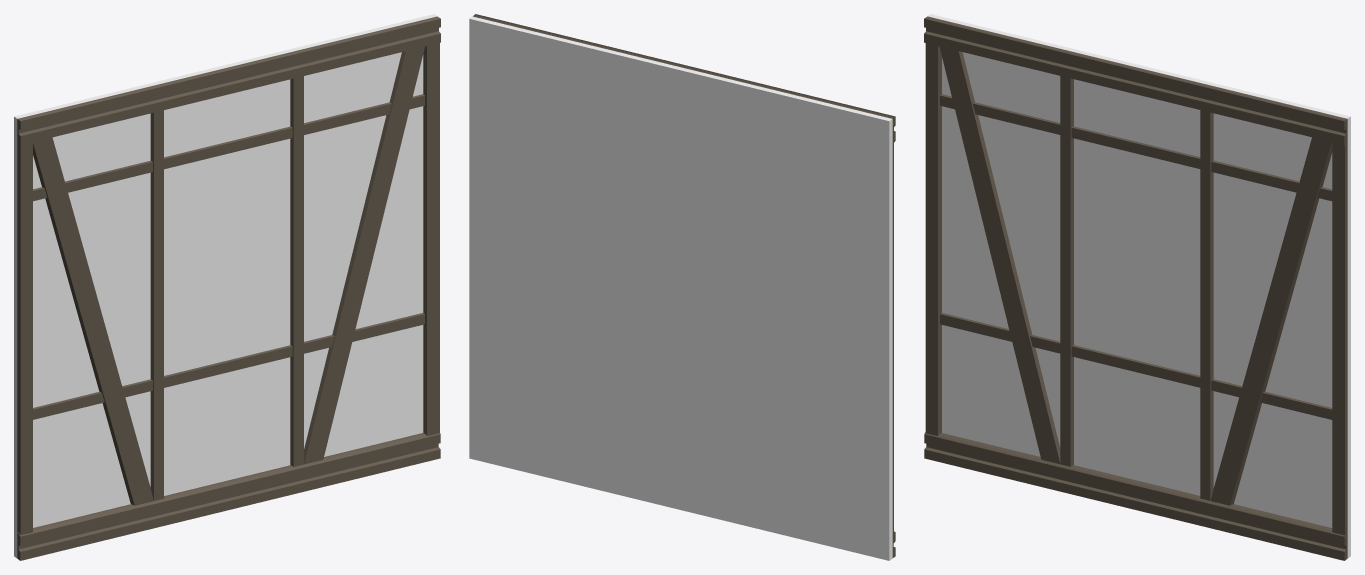
File: WALL_02_1.glb
The picture shows the model from 3 angles, left to right: view 1: azimuth 30°, elevation 25°; view 2: azimuth 150°, elevation 25°; view 3: azimuth 330°, elevation 25°; orthographic projection.
Parts seen in each view (by area): view 1: WALL_02_1; view 2: WALL_02_1; view 3: WALL_02_1.
Boxes of the visible parts, x1=… form: WALL_02_1: x1=14, y1=14, x2=440, y2=560; WALL_02_1: x1=469, y1=14, x2=895, y2=560; WALL_02_1: x1=924, y1=14, x2=1350, y2=560.
Size of the model in its own units: 3 by 3 by 0.08.
Materials: 1 (1 with a texture image).
